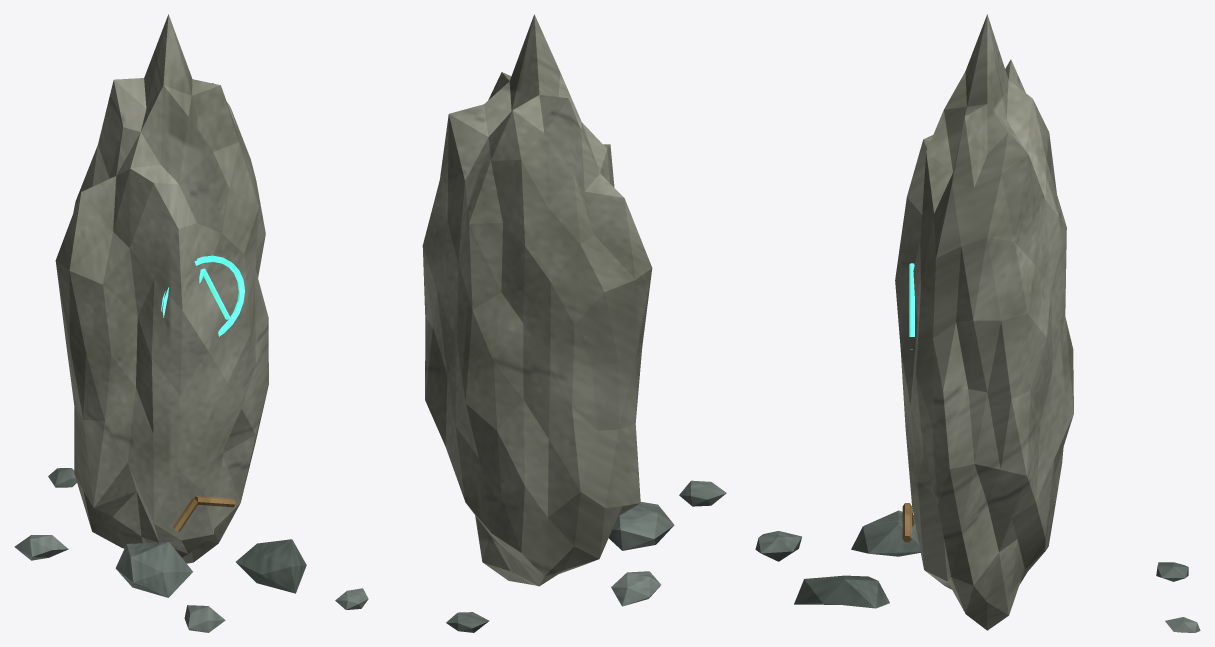
The model's file is 0657_waystone_07.glb.
3 renders of one model, left to right at view 1: azimuth 30°, elevation 25°; view 2: azimuth 150°, elevation 25°; view 3: azimuth 270°, elevation 25°, orthographic. The views are drawn at different scales.
Parts seen in each view (by area): view 1: stone_light, stone, glow, brass; view 2: stone_light, stone; view 3: stone_light, stone.
Part boxes in pixels (x1=…): stone_light: x1=55, y1=14, x2=268, y2=563; stone: x1=14, y1=468, x2=306, y2=632; glow: x1=161, y1=255, x2=244, y2=336; brass: x1=172, y1=496, x2=235, y2=531; stone_light: x1=422, y1=14, x2=652, y2=586; stone: x1=335, y1=480, x2=726, y2=632; stone_light: x1=895, y1=14, x2=1073, y2=630; stone: x1=755, y1=510, x2=1200, y2=632.
Size of the model in its own units: 1.23 by 2.83 by 1.89.
Materials: 4 (4 with a texture image).
